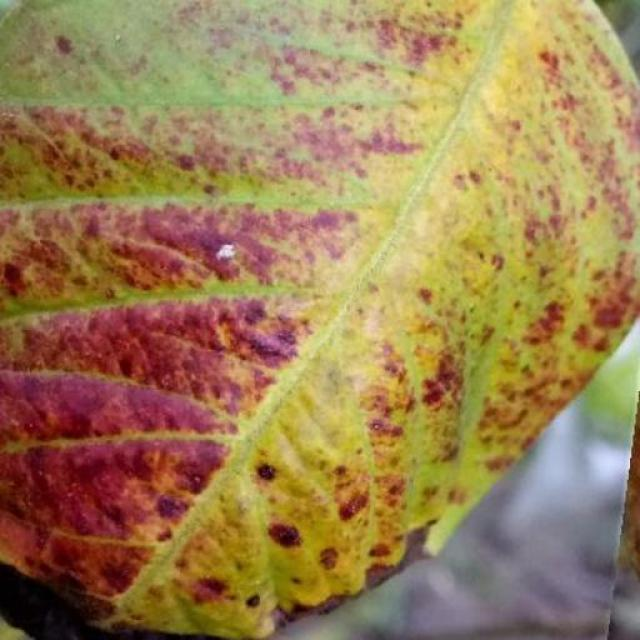Rust: (0, 0, 640, 637)
